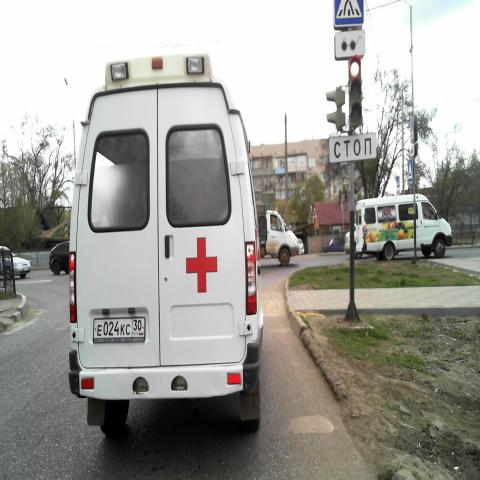8_15: (335, 32, 365, 58)
